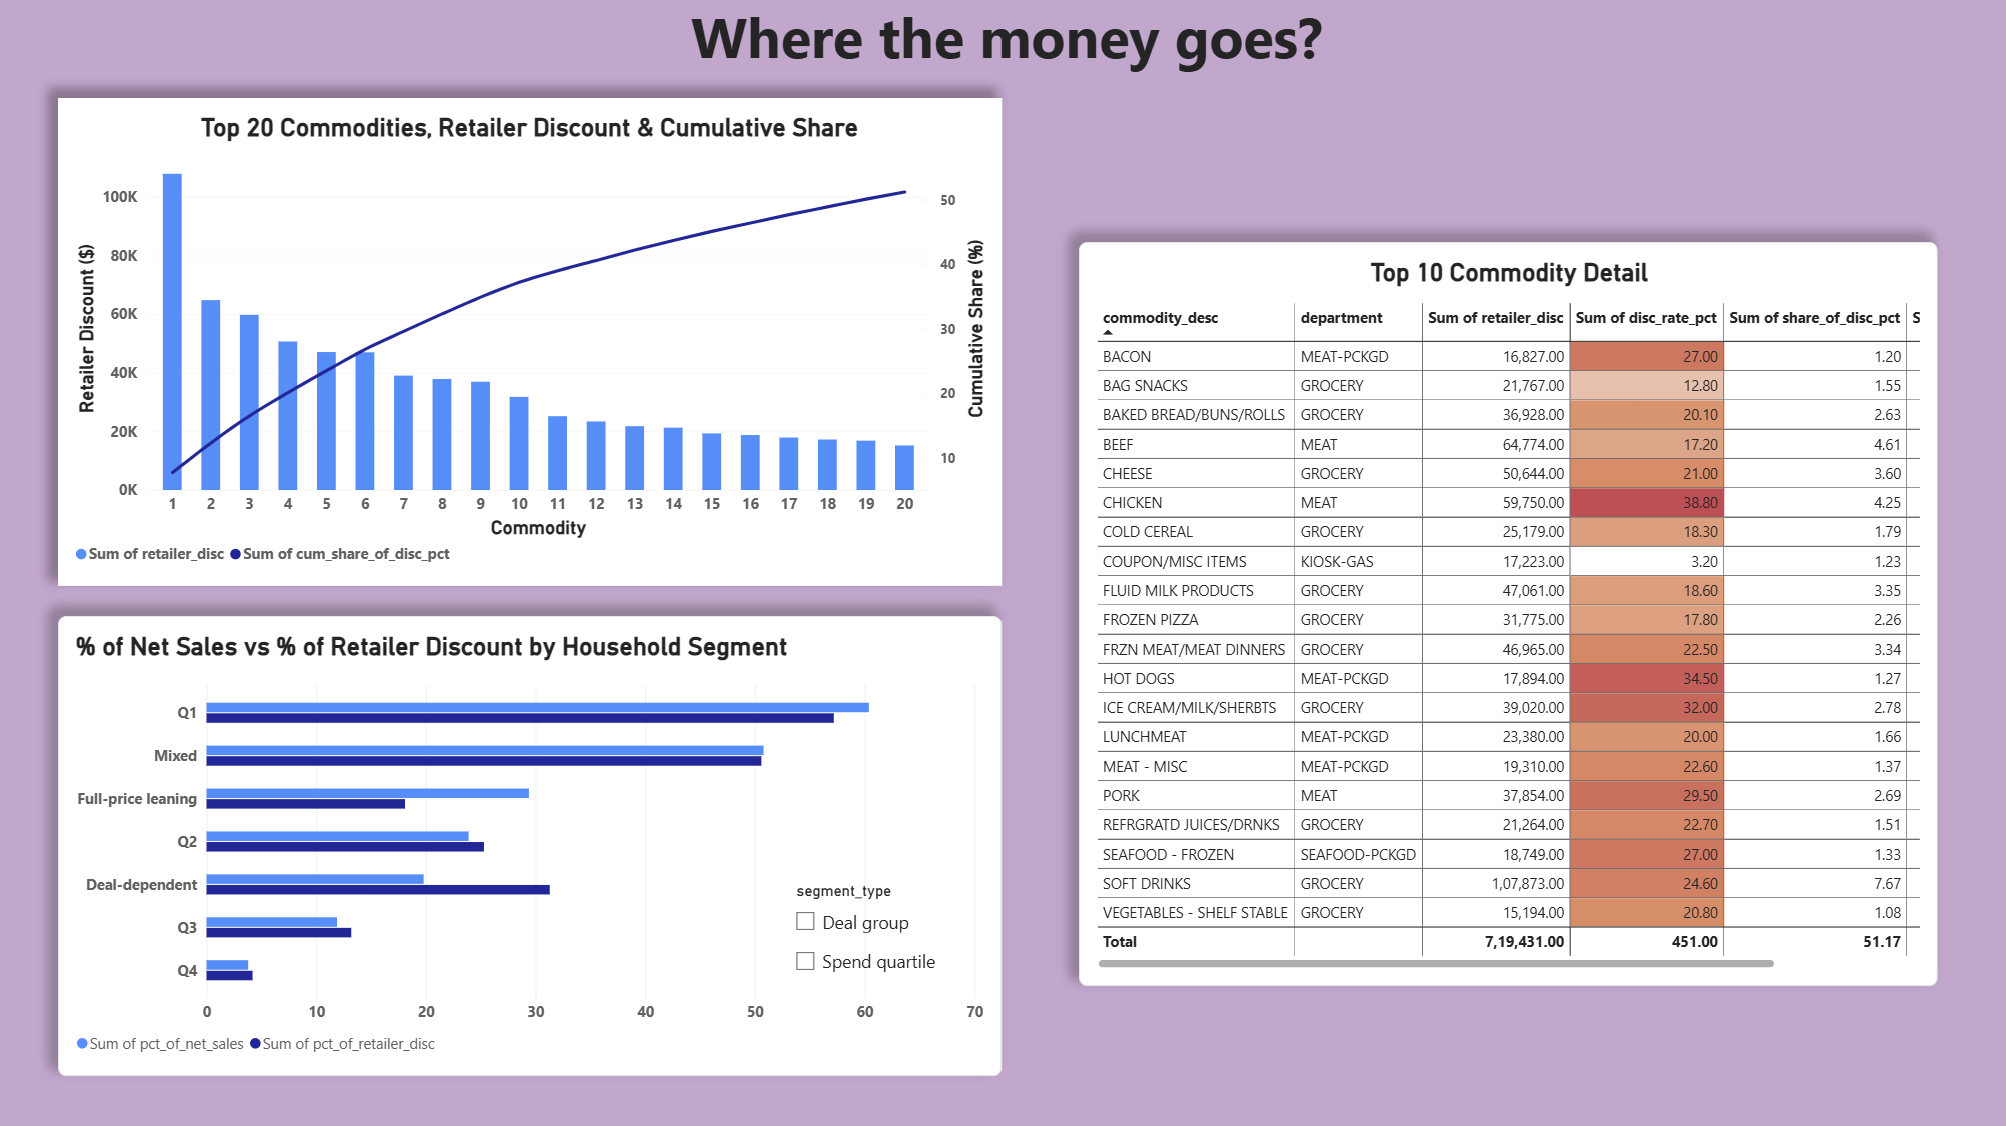

The dashboard page shown, as its layout file describes it:
{"tool":"powerbi","page":{"name":"Page 2","canvas":[1920,1080],"ordinal":1},"visuals":[{"type":"textbox","box":[10.9,0,1909.1,96.3],"z":0},{"type":"lineClusteredColumnComboChart","title":"Top 20 Commodities, Retailer Discount & Cumulative Share","fields":{"Category":["commodity_discount.rnk"],"Y":["Sum(commodity_discount.retailer_disc)"],"Y2":["Sum(commodity_discount.cum_share_of_disc_pct)"]},"box":[59.1,96.3,902,466.3],"z":1000},{"type":"tableEx","title":"Top 10 Commodity Detail","fields":{"Values":["commodity_discount.commodity_desc","commodity_discount.department","Sum(commodity_discount.retailer_disc)","Sum(commodity_discount.disc_rate_pct)","Sum(commodity_discount.share_of_disc_pct)","Sum(commodity_discount.share_of_sales_pct)"]},"box":[1035.5,234.3,821,711.5],"z":2000},{"type":"clusteredBarChart","title":"% of Net Sales vs % of Retailer Discount by Household Segment","fields":{"Category":["segment_summary.segment"],"Y":["Sum(segment_summary.pct_of_net_sales)","Sum(segment_summary.pct_of_retailer_disc)"]},"box":[59.1,591.1,902,440],"z":3000},{"type":"slicer","fields":{"Values":["segment_summary.segment_type"]},"box":[757.5,845.1,186.1,107.3],"z":4000}]}

Visuals, with their boxes in screenshot pixels (x1, y1, x2, y2), scaled from the page's 1920x1080 canvas onto the 2006x1126 screenshot:
textbox: l=11, t=0, r=2005, b=100
"Top 20 Commodities, Retailer Discount & Cumulative Share" lineClusteredColumnComboChart: l=62, t=100, r=1004, b=587
"Top 10 Commodity Detail" tableEx: l=1082, t=244, r=1940, b=986
"% of Net Sales vs % of Retailer Discount by Household Segment" clusteredBarChart: l=62, t=616, r=1004, b=1075
slicer - segment_summary.segment_type: l=791, t=881, r=986, b=993
